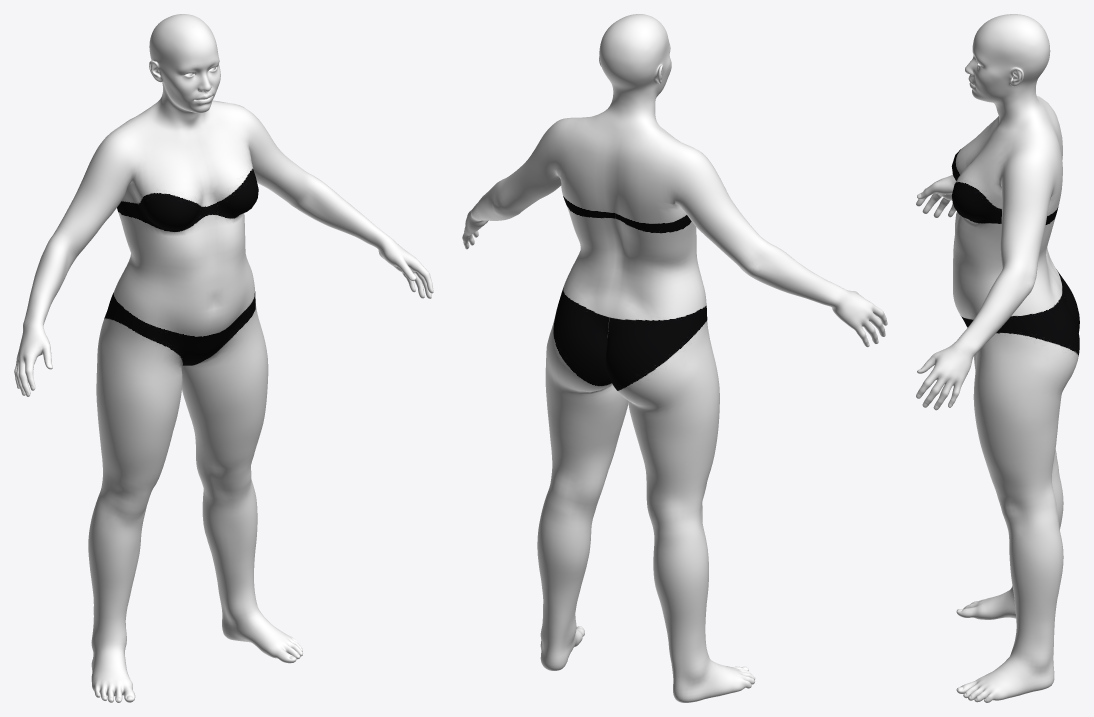
File: alki_humgen_female_heavy.glb
3 views of the same model, side by side, from view 1: azimuth 30°, elevation 25°; view 2: azimuth 150°, elevation 25°; view 3: azimuth 270°, elevation 25° (orthographic). The views are drawn at different scales.
Parts seen in each view (by area): view 1: ALKI_female_heavy_preview; view 2: ALKI_female_heavy_preview; view 3: ALKI_female_heavy_preview.
Boxes of the visible parts, left/top/right/bottom form: ALKI_female_heavy_preview: left=14, top=14, right=433, bottom=702; ALKI_female_heavy_preview: left=462, top=14, right=887, bottom=702; ALKI_female_heavy_preview: left=916, top=14, right=1079, bottom=702.
Size of the model in its own units: 1.18 by 1.78 by 0.4146.
Materials: 1 (1 with a texture image).
